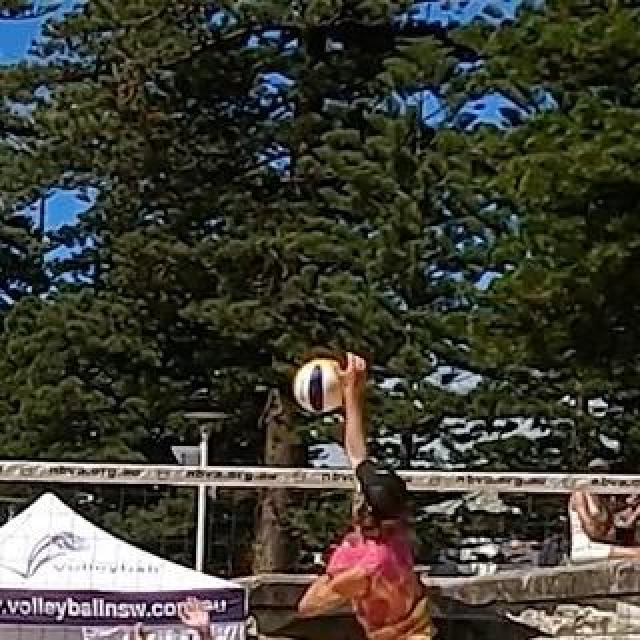volleyball: (294, 360, 346, 414)
